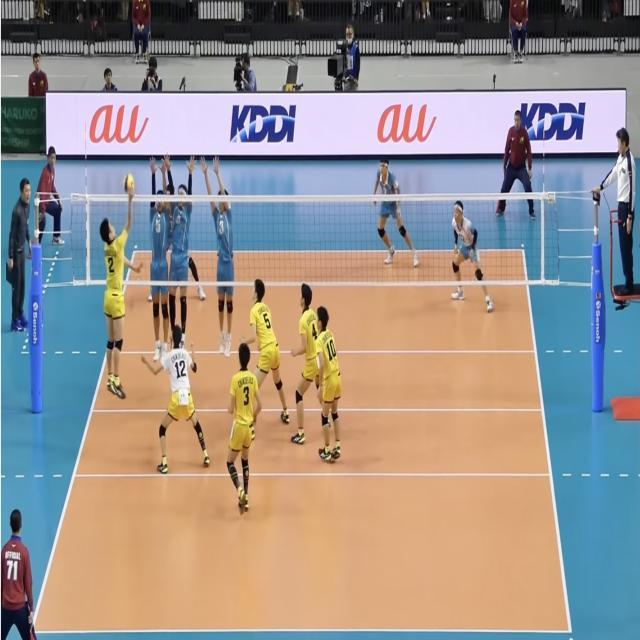spike: (98, 169, 139, 405)
